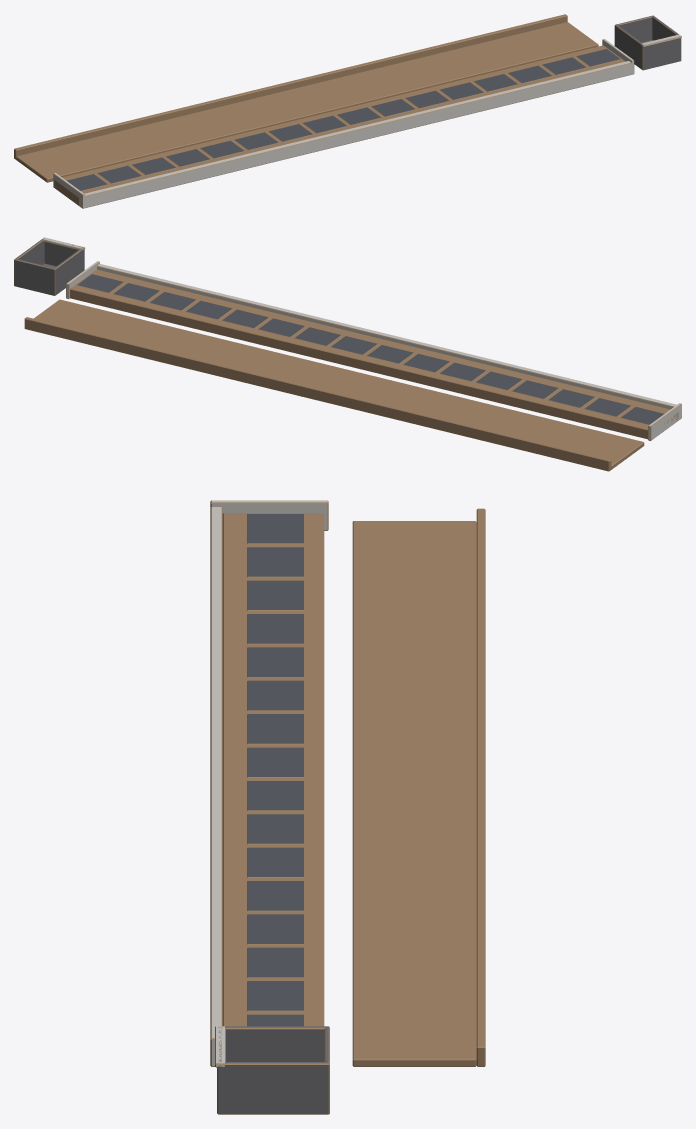
File: chord_ledge.glb
3 views of the same model, one above another, from view 1: azimuth 30°, elevation 25°; view 2: azimuth 150°, elevation 25°; view 3: azimuth 270°, elevation 25° (orthographic). The views are drawn at different scales.
Parts seen in each view (by area): view 1: ChordLedge; view 2: ChordLedge; view 3: ChordLedge.
Part boxes in pixels (<box>): ChordLedge: <box>14,14,681,208</box>; ChordLedge: <box>14,237,681,471</box>; ChordLedge: <box>210,500,485,1114</box>.
Size of the model in its own units: 1.23 by 0.05 by 0.244.
